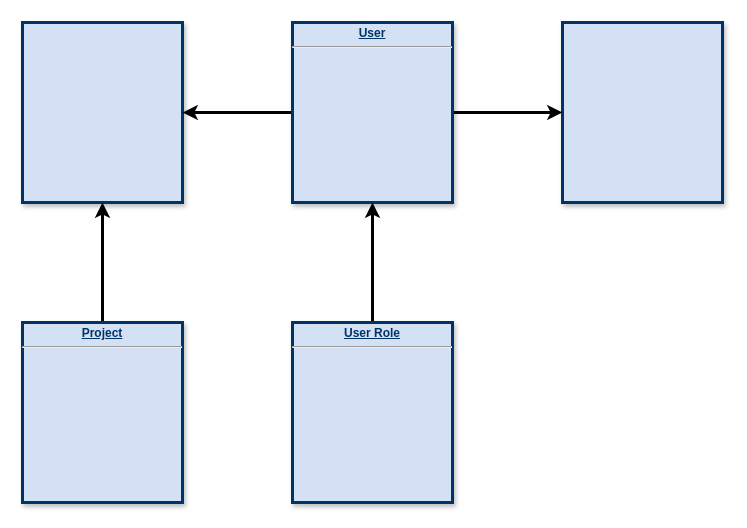
The diagram is 747 pixels wide and 528 high, and some of its shapes have lost their labels. The shapes that lost their labels are listed below. From the top down, each one's centre as x and y in pixels, then its label:
(103,113): Organization
(643,113): Account
